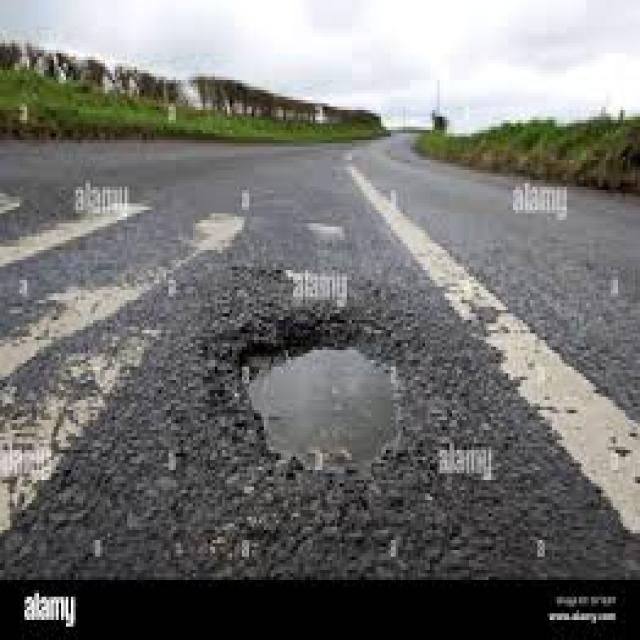Pothole: (244, 347, 398, 477)
